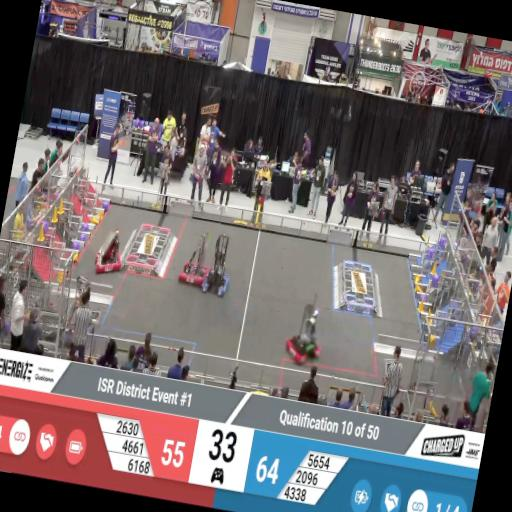robot: (282, 300, 329, 370), (58, 276, 102, 348), (201, 236, 237, 299), (176, 233, 214, 290), (90, 228, 127, 278)
